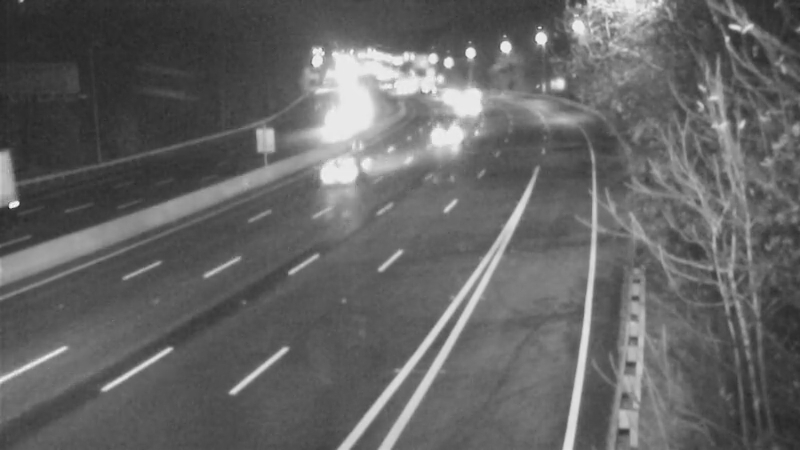vehicle: (309, 127, 389, 207), (403, 61, 453, 111), (420, 70, 470, 120), (447, 69, 497, 119), (441, 84, 491, 134), (425, 110, 475, 160), (313, 93, 363, 143)
